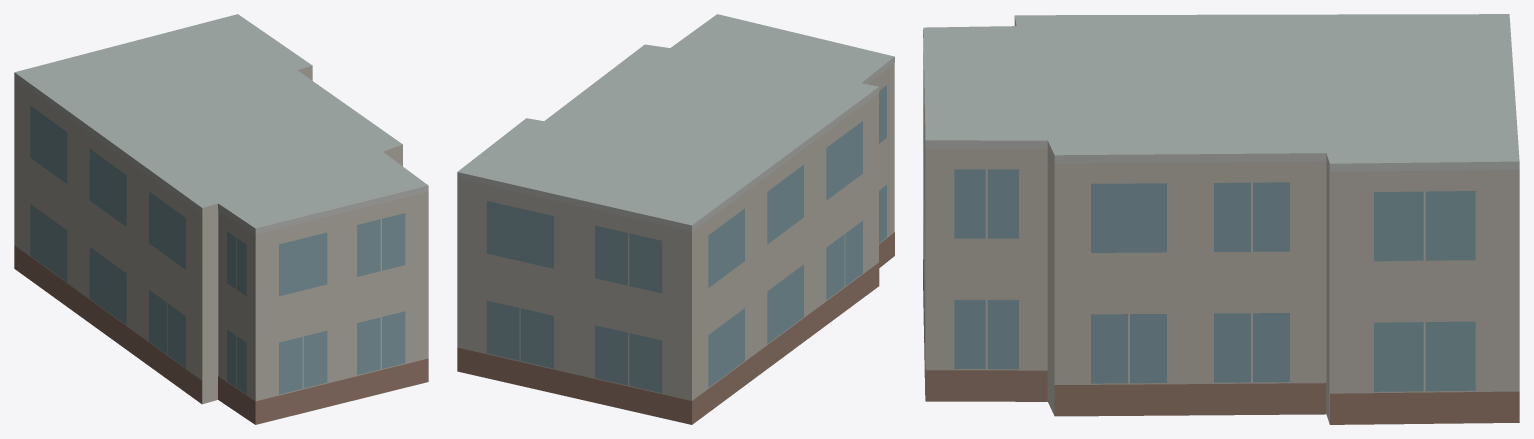
File: survey-upis-32765219.glb
3 views of the same model, side by side, from view 1: azimuth 30°, elevation 25°; view 2: azimuth 150°, elevation 25°; view 3: azimuth 270°, elevation 25° (orthographic). The views are drawn at different scales.
Visible parts, largest first — view 1: survey-upis-32765219.tmp; view 2: survey-upis-32765219.tmp; view 3: survey-upis-32765219.tmp.
Part boxes in pixels (x1=…): survey-upis-32765219.tmp: x1=14, y1=14, x2=428, y2=424; survey-upis-32765219.tmp: x1=457, y1=14, x2=894, y2=424; survey-upis-32765219.tmp: x1=923, y1=14, x2=1519, y2=424.
Bounding box in the file's own units: 9.54 × 7.75 × 16.05.
